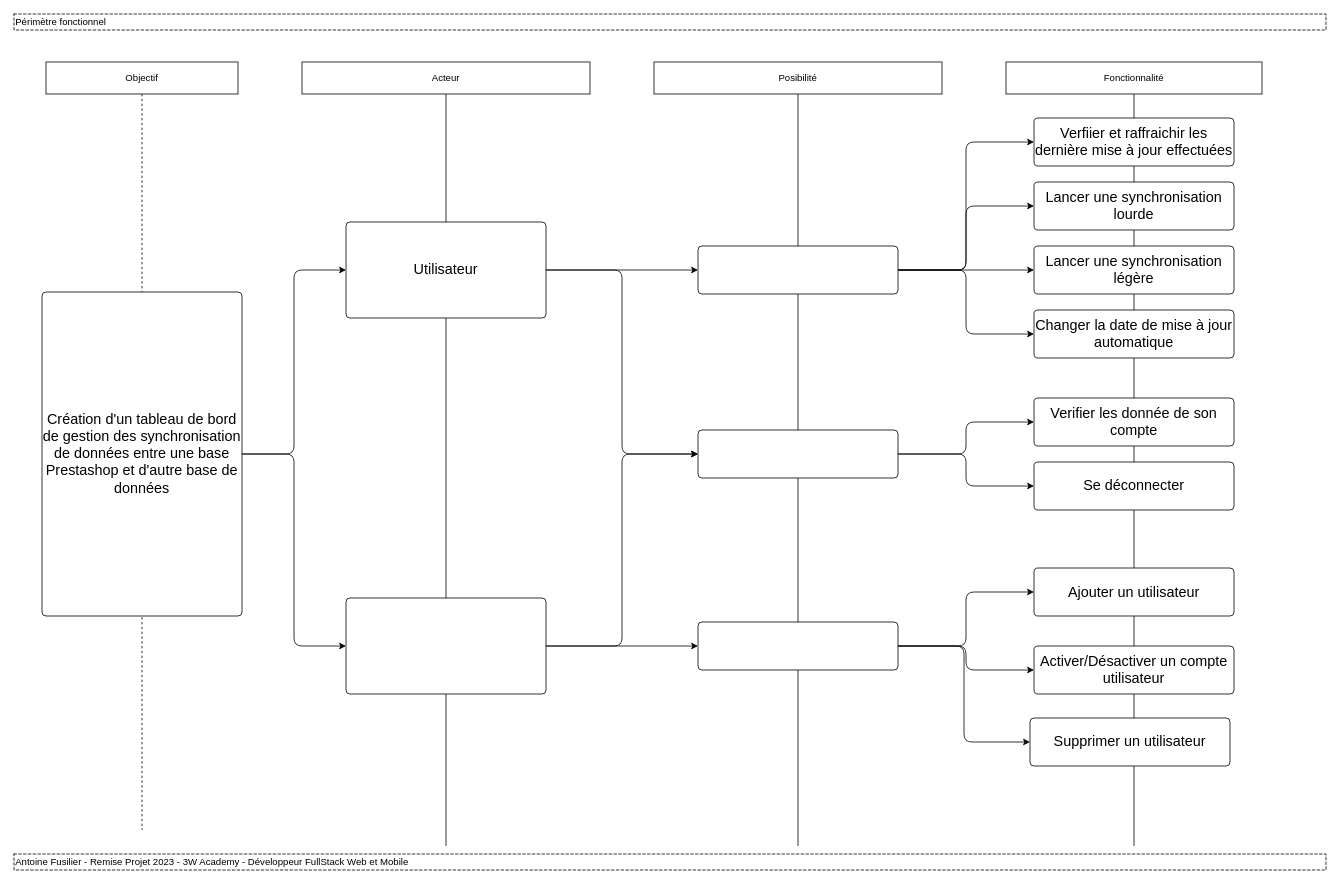
This 1340x884 diagram has some shape labels left out. The shapes that lost their labels are listed below. From the top down, each one's centre as x and y in pixels, then its label:
At point 797,269: "Accès au dashboard".
At point 797,453: "Visualiser son compte".
At point 445,645: "Administrateur".
At point 797,645: "Gérer".
